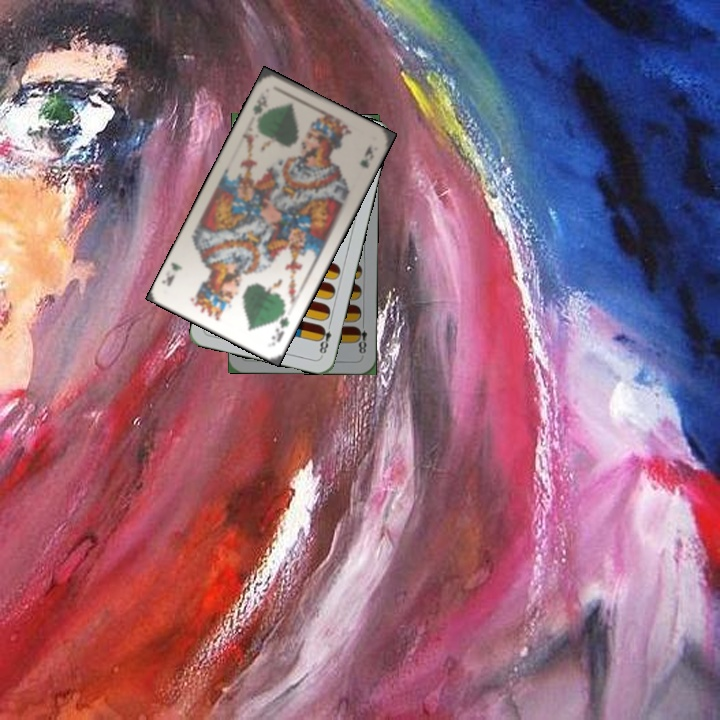E8: (315, 319, 334, 358), (352, 318, 369, 358)
GK: (267, 305, 292, 345), (248, 89, 270, 117)
